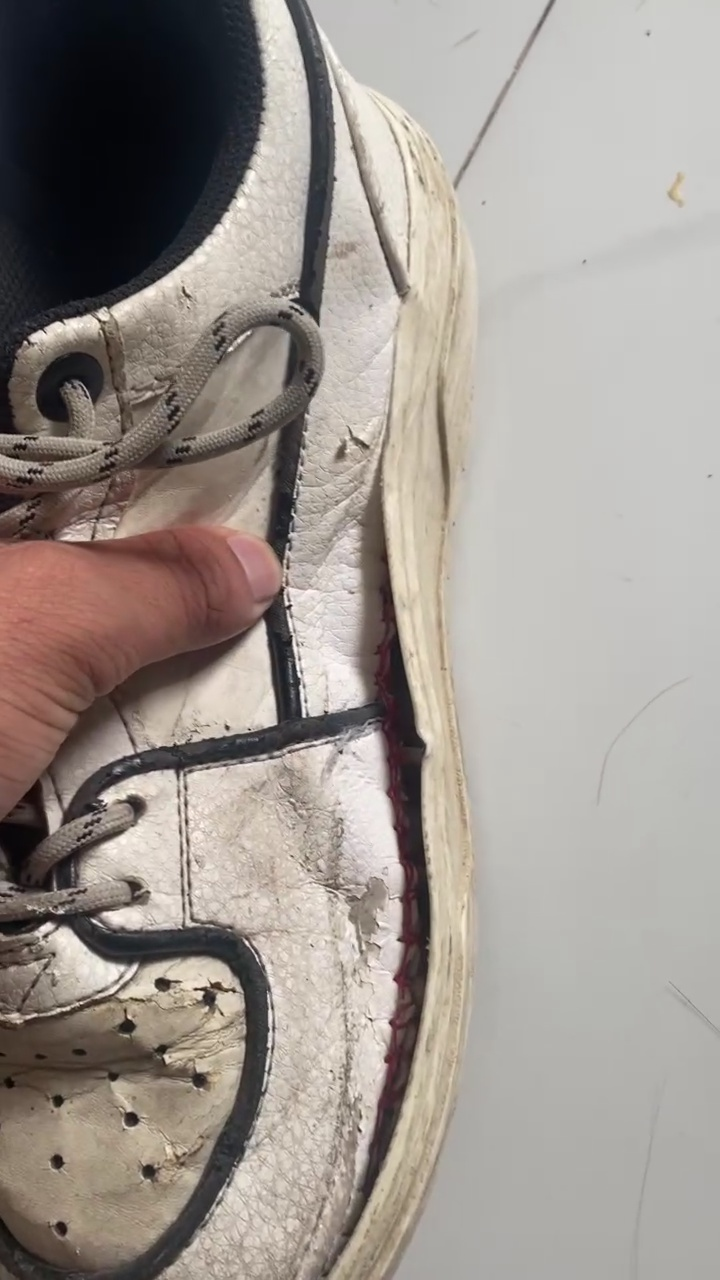bonding: (325, 503, 440, 1184)
